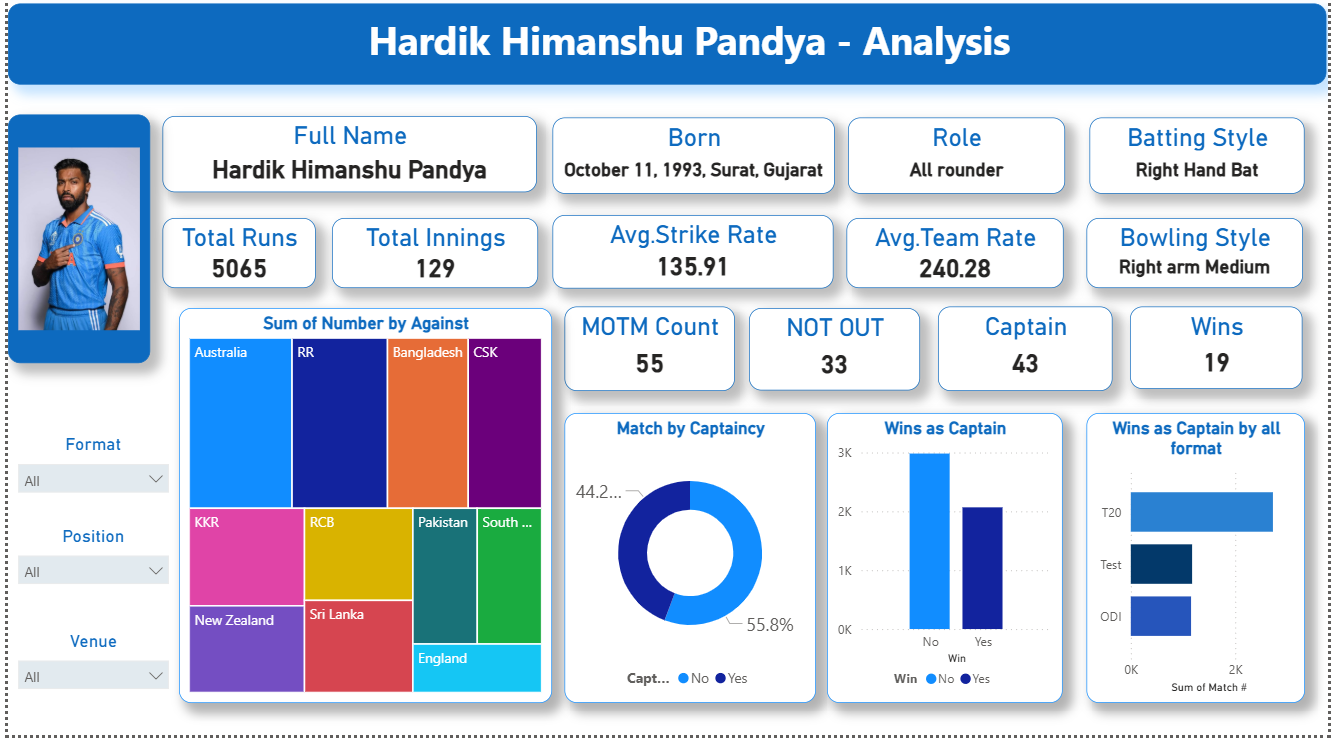

Layout of this report page (visuals, bound fields, positions):
{"tool":"powerbi","page":{"name":"Page 1","canvas":[1280,720],"ordinal":0},"visuals":[{"type":"textbox","box":[0,10.2,1279.4,78.6],"z":0},{"type":"card","title":"Full Name","fields":{"Values":["Min(Hardik_33.FULL Name)"]},"box":[149.9,119.6,363.4,74.2],"z":1000},{"type":"card","title":"Born","fields":{"Values":["Min(Hardik_33.Born)"]},"box":[528.5,121.1,274.1,74.2],"z":2000},{"type":"card","title":"Role","fields":{"Values":["Min(Hardik_33.Playing role)"]},"box":[814.6,121.1,210.5,74.2],"z":3000},{"type":"card","title":"Batting Style","fields":{"Values":["Min(Hardik_33.Batting Style)"]},"box":[1049.3,121.1,209,74.2],"z":4000},{"type":"card","title":"Total Runs","fields":{"Values":["Sum(STATS.Runs)"]},"box":[149.9,218,148.4,68.1],"z":5000},{"type":"card","title":"Total Innings","fields":{"Values":["Sum(STATS.Inning)"]},"box":[315,218,199.9,68.1],"z":6000},{"type":"card","title":"Avg.Strike Rate","fields":{"Values":["Avg(STATS.SR)"]},"box":[528.5,215,272.6,71.2],"z":7000},{"type":"card","title":"Avg.Team Rate","fields":{"Values":["Avg(STATS.Team Total)"]},"box":[813.1,218,210.5,68.1],"z":8000},{"type":"card","title":"Bowling Style","fields":{"Values":["Min(Hardik_33.Bowling Style)"]},"box":[1045.9,218,209.8,68.3],"z":9000},{"type":"card","title":"MOTM Count","fields":{"Values":["CountNonNull(STATS.MOTM)"]},"box":[540.6,304.4,165,81.8],"z":10000},{"type":"card","title":"NOT OUT","fields":{"Values":["CountNonNull(STATS.Not Out)"]},"box":[718.9,305.8,165.9,79.7],"z":11000},{"type":"card","title":"Captain","fields":{"Values":["CountNonNull(STATS.Captain)"]},"box":[902.5,304.4,169.6,81.8],"z":12000},{"type":"card","title":"Wins","fields":{"Values":["CountNonNull(STATS.Win)"]},"box":[1088.2,304.2,167.5,79.7],"z":13000},{"type":"slicer","title":"Format","fields":{"Values":["STATS.Format"]},"box":[0,427.8,165.9,71.6],"z":14000},{"type":"slicer","title":"Position","fields":{"Values":["STATS.Position"]},"box":[0,517.2,165.9,71.6],"z":15000},{"type":"slicer","title":"Venue","fields":{"Values":["STATS.Venue"]},"box":[0,618.1,165.9,71.6],"z":16000},{"type":"treemap","title":"Sum of Number by Against","fields":{"Group":["STATS.Opposition"],"Values":["Count(STATS.Match #)"]},"box":[166.6,305.9,361.9,383.1],"z":17000},{"type":"donutChart","title":" Match by Captaincy","fields":{"Category":["STATS.Captain"],"Y":["Sum(STATS.Match #)"]},"box":[540.6,407.3,243.8,281.6],"z":18000},{"type":"columnChart","title":"Wins as Captain","fields":{"Category":["STATS.Win"],"Y":["Sum(STATS.Match #)"],"Series":["STATS.Win"]},"box":[795,407.3,228.6,281.6],"z":19000},{"type":"barChart","title":"Wins as Captain by all format","fields":{"Category":["STATS.Format"],"Y":["Sum(STATS.Match #)"]},"box":[1046.3,407.3,212,281.6],"z":20000},{"type":"image","box":[0,117.9,138.3,241.6],"z":21000}]}

Visuals, with their boxes in screenshot pixels (x1, y1, x2, y2), scaled from the page's 1280x720 canvas onto the 1333x739 screenshot:
textbox: box=[0, 10, 1332, 91]
"Full Name" card: box=[156, 123, 535, 199]
"Born" card: box=[550, 124, 836, 200]
"Role" card: box=[848, 124, 1068, 200]
"Batting Style" card: box=[1093, 124, 1310, 200]
"Total Runs" card: box=[156, 224, 311, 294]
"Total Innings" card: box=[328, 224, 536, 294]
"Avg.Strike Rate" card: box=[550, 221, 834, 294]
"Avg.Team Rate" card: box=[847, 224, 1066, 294]
"Bowling Style" card: box=[1089, 224, 1308, 294]
"MOTM Count" card: box=[563, 312, 735, 396]
"NOT OUT" card: box=[749, 314, 921, 396]
"Captain" card: box=[940, 312, 1116, 396]
"Wins" card: box=[1133, 312, 1308, 394]
"Format" slicer: box=[0, 439, 173, 513]
"Position" slicer: box=[0, 531, 173, 604]
"Venue" slicer: box=[0, 634, 173, 708]
"Sum of Number by Against" treemap: box=[173, 314, 550, 707]
" Match by Captaincy" donutChart: box=[563, 418, 817, 707]
"Wins as Captain" columnChart: box=[828, 418, 1066, 707]
"Wins as Captain by all format" barChart: box=[1090, 418, 1310, 707]
image: box=[0, 121, 144, 369]
